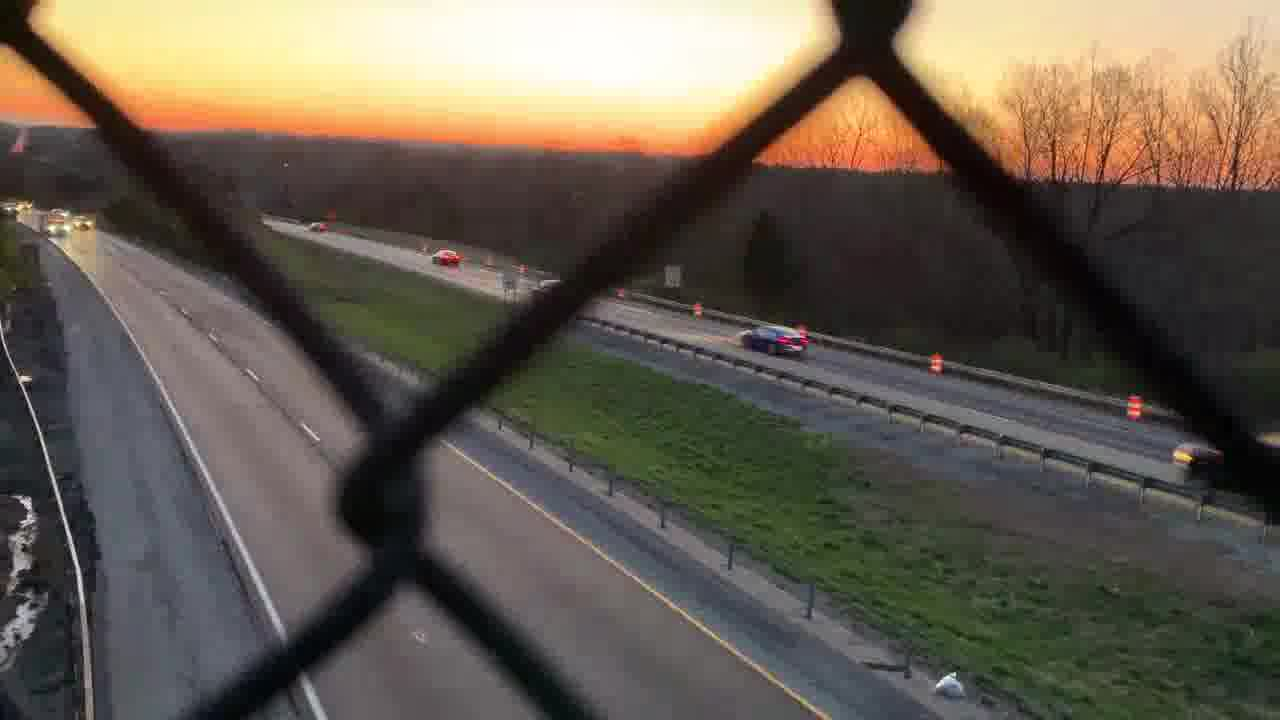smallCar: (736, 315, 810, 359), (430, 248, 466, 267)
